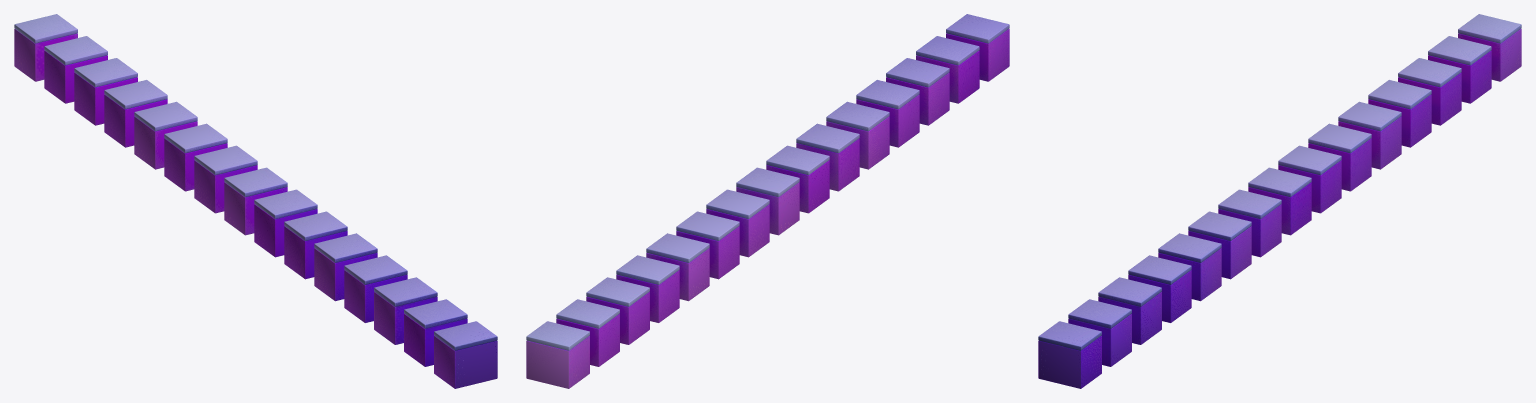
Rendered from floor_path.glb.
3 views of the same model, side by side, from view 1: azimuth 30°, elevation 25°; view 2: azimuth 150°, elevation 25°; view 3: azimuth 330°, elevation 25° (orthographic).
Parts seen in each view (by area): view 1: Cloner; view 2: Cloner; view 3: Cloner.
Part boxes in pixels (x1=…): Cloner: x1=14, y1=14, x2=497, y2=388; Cloner: x1=526, y1=14, x2=1009, y2=388; Cloner: x1=1038, y1=14, x2=1521, y2=388.
Bounding box in the file's own units: 7.76 × 7.37 × 138.
Materials: 1 (1 with a texture image).
